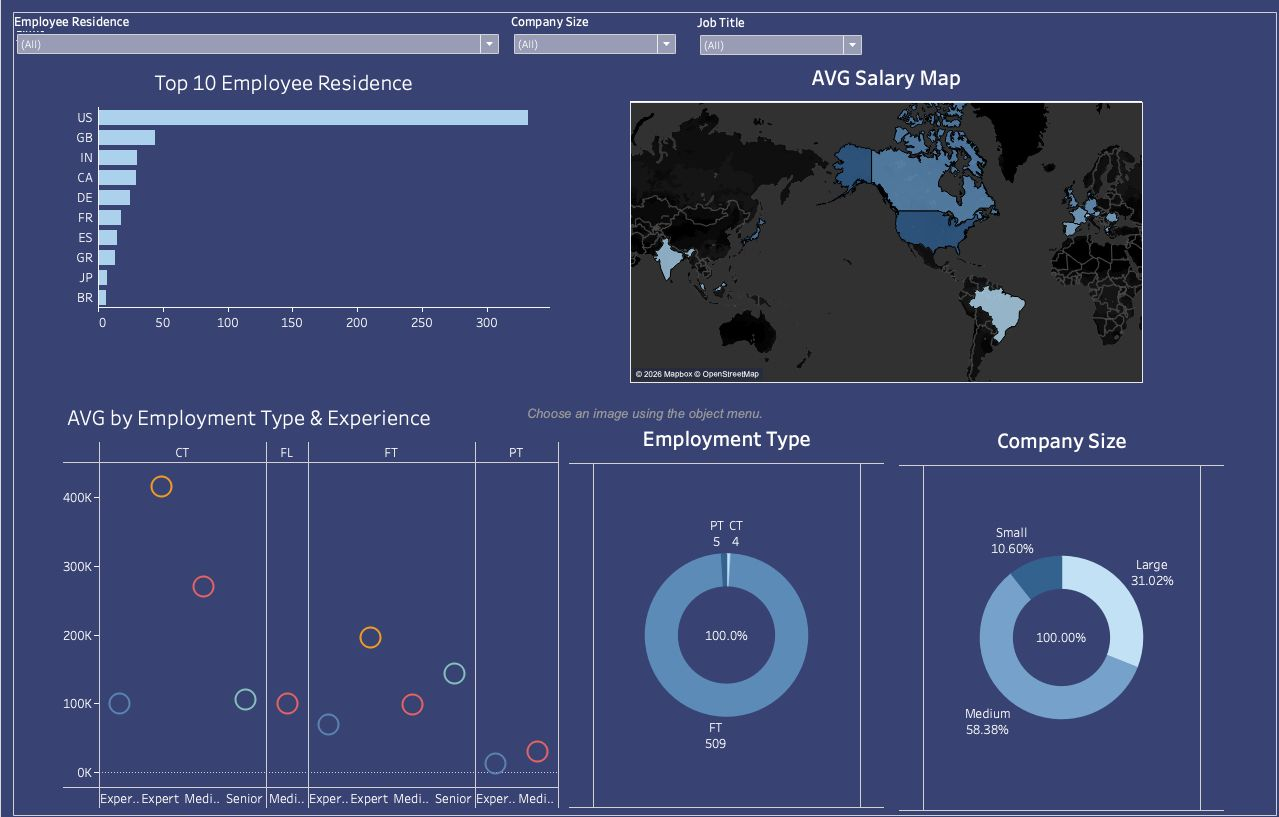

Layout of this report page (visuals, bound fields, positions):
{"tool":"tableau","page":{"name":"Dashboard 1","canvas":[1000,1000],"units":"permille","ordinal":0},"visuals":[{"type":"filter","title":"Employment Type & Exp Level ","param":"[federated.04gsh2907hjt0n1bjc6ly1m3xao3].[none:company_size:nk]","box":[384.9,7.1,127.3,61.3]},{"type":"filter","title":"Employment Type & Exp Level ","param":"[federated.04gsh2907hjt0n1bjc6ly1m3xao3].[none:job_title:nk]","box":[527.3,7.1,127.3,61.3]},{"type":"filter","title":"Top 10 ","param":"[federated.04gsh2907hjt0n1bjc6ly1m3xao3].[none:employee_residence:nk]","box":[5.3,8.2,369.7,53.1]},{"type":"worksheet","title":"AVG Salary Map ","mark":"Automatic","box":[476.5,70.8,388.6,391.5]},{"type":"worksheet","title":"Top 10 ","mark":"Automatic","rows":["employee_residence"],"cols":["employee_residence"],"box":[6.8,71.9,403,397.4]},{"type":"worksheet","title":"Employment Type & Exp Level ","mark":"Shape","rows":["salary_in_usd"],"cols":["employment_type","experience_level"],"box":[50,502.4,376.5,495.3]},{"type":"worksheet","title":"Company Size","mark":"Pie","rows":["Calculation_5286558657425409","Calculation_5286558657425409"],"box":[682.6,528.3,247,469.3]},{"type":"worksheet","title":"Employment Type ","mark":"Pie","rows":["Calculation_5286558657425409","Calculation_5286558657425409"],"box":[434.9,530.7,239.4,468.2]}]}

Visuals, with their boxes on the dashboard's canvas, which has no fixed pixel size, in thousandths of its width and height (x1, y1, x2, y2). These are canvas units, not pixel positions in the 1279x817 screenshot, which may show the page scaled, cropped or inside an application window:
"Employment Type & Exp Level " filter: select_region(385, 7, 512, 68)
"Employment Type & Exp Level " filter: select_region(527, 7, 655, 68)
"Top 10 " filter: select_region(5, 8, 375, 61)
"AVG Salary Map " worksheet: select_region(476, 71, 865, 462)
"Top 10 " worksheet: select_region(7, 72, 410, 469)
"Employment Type & Exp Level " worksheet (Shape marks): select_region(50, 502, 426, 998)
"Company Size" worksheet (Pie marks): select_region(683, 528, 930, 998)
"Employment Type " worksheet (Pie marks): select_region(435, 531, 674, 999)
